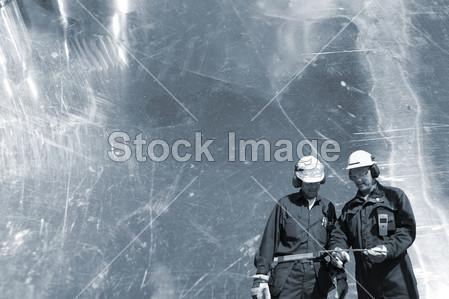helmet: (295, 156, 329, 185), (345, 151, 379, 172)
